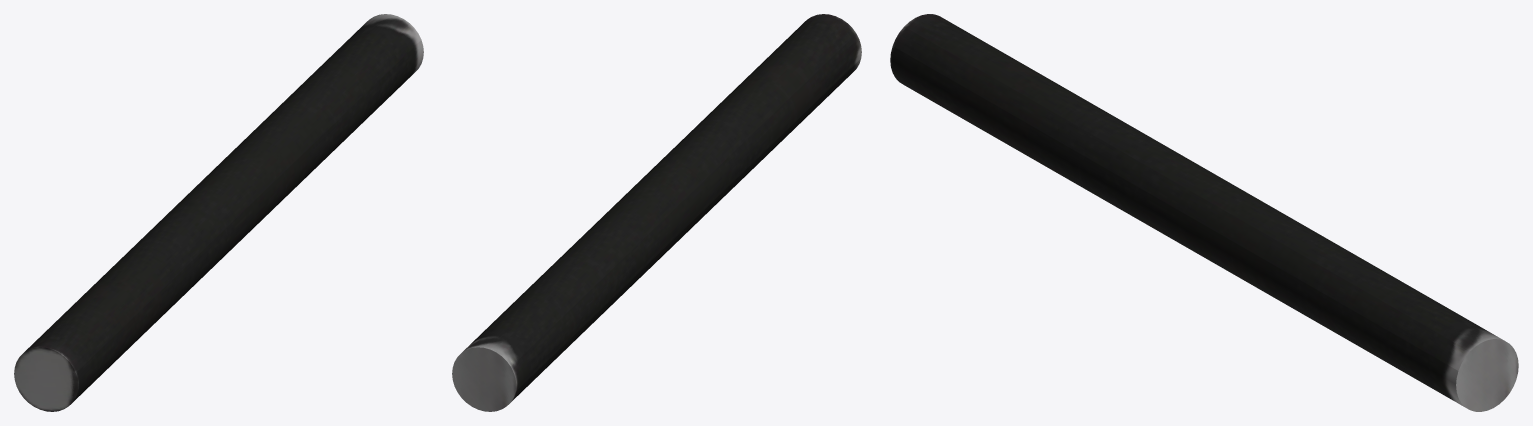
Rendered from center_frame__front_mast.glb.
The picture shows the model from 3 angles, left to right: view 1: azimuth 30°, elevation 25°; view 2: azimuth 210°, elevation 25°; view 3: azimuth 270°, elevation 25°; orthographic projection. The views are drawn at different scales.
Visible parts, largest first — view 1: world; view 2: world; view 3: world.
Part boxes in pixels (bbox=[...]): world: bbox=[14, 14, 423, 411]; world: bbox=[452, 14, 861, 411]; world: bbox=[890, 14, 1518, 411].
Size of the model in its own units: 0.4611 by 0.044 by 0.3554.
Materials: 1 (1 with a texture image).
